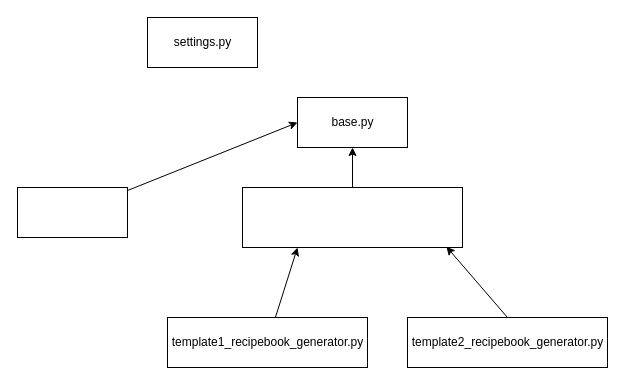
Some shapes in this 625 by 385 pixel diagram are drawn without their labels. Here are the shapes that lost their labels. From the top down, the centre of each, then its label:
point 72,212: writer.py
point 352,217: base_recipebook_generator.py
